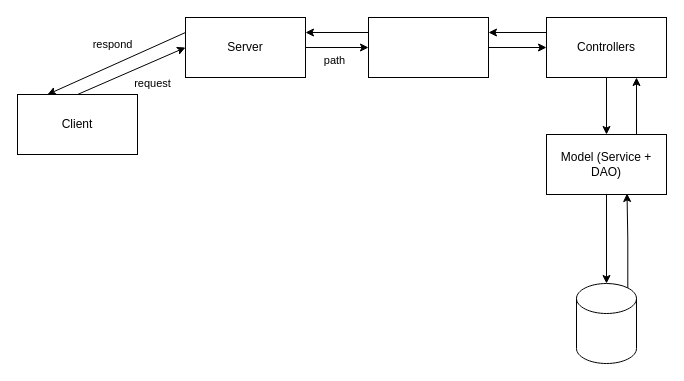
Some shapes in this 684 by 381 pixel diagram are drawn without their labels. Here are the shapes that lost their labels. From the top down, the centre of each, then its label:
(428,47): Routes
(606,323): DB
